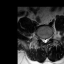CCS_normal: (44, 36, 46, 44)
LFS_normal: (48, 35, 50, 41)
LLS_normal: (46, 36, 48, 43)
RFS_normal: (40, 35, 42, 42)
RLS_normal: (42, 36, 44, 44)
